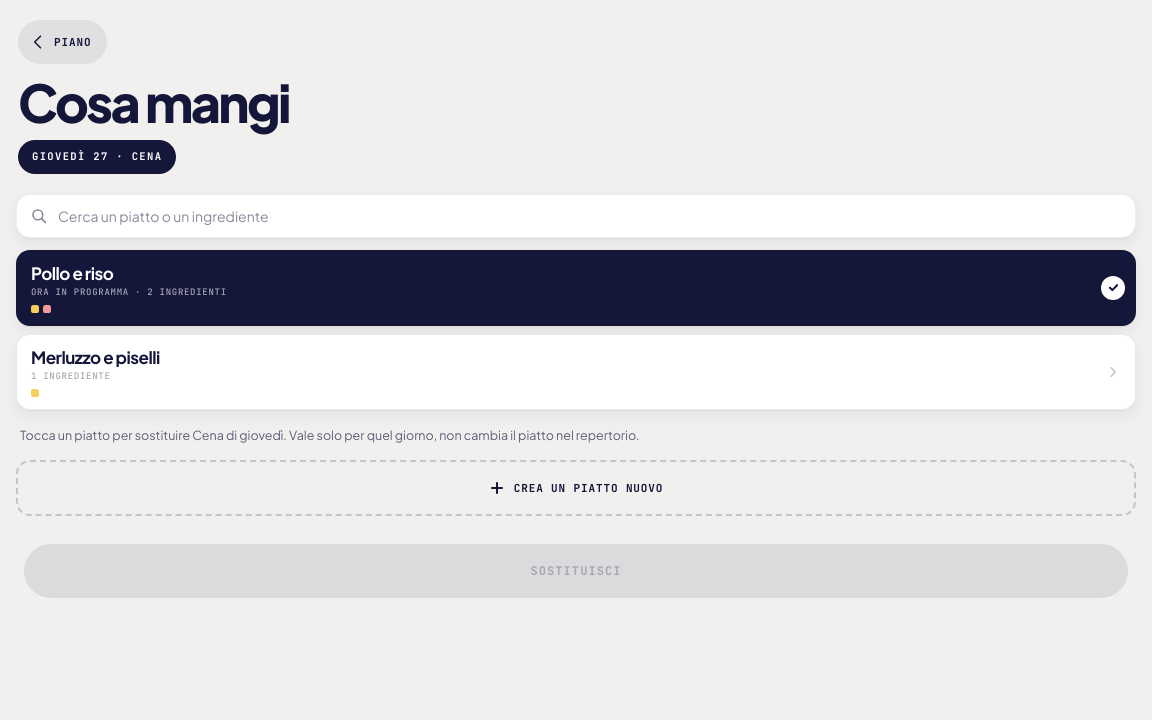
Test case: Scegli il piatto › errore di salvataggio: mostra un messaggio inline e la schermata resta in piedi
The width and height of the screenshot is (1152, 720).
Expected: the text "Pollo e riso" is shown, [31, 262, 113, 284]
Step 1. Click the text "Merluzzo e piselli" → {"x": 95, "y": 357}, box [31, 346, 160, 368]
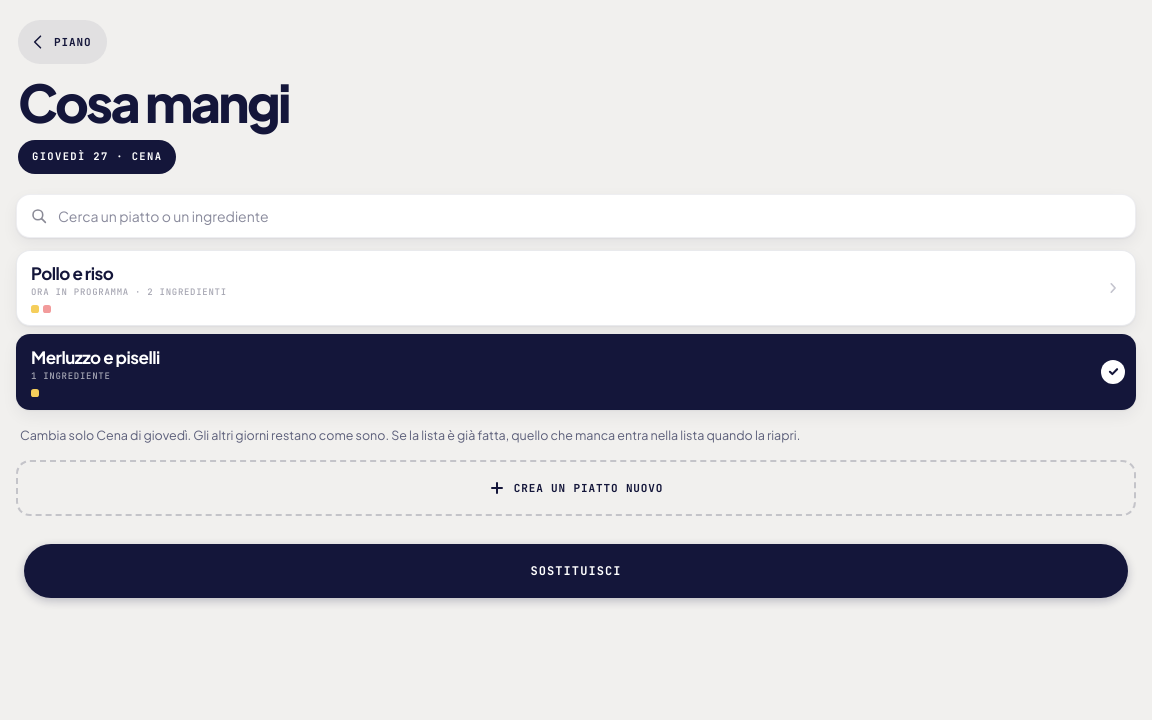
Step 2. Click the button "SOSTITUISCI" → {"x": 576, "y": 571}, box [24, 544, 1128, 598]
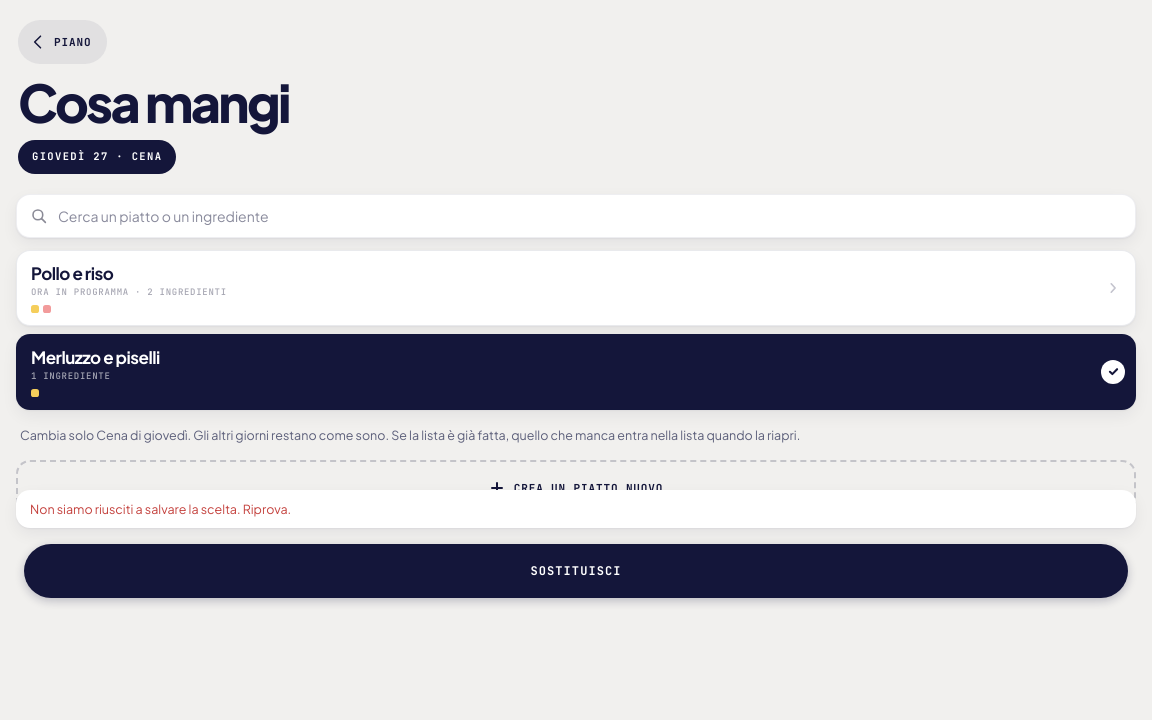
Expected: the text "Merluzzo e piselli" is shown, [31, 346, 160, 368]
Now the text "Non siamo riusciti a salvare la scelta. Riprova." is shown, box [16, 490, 1136, 528]
